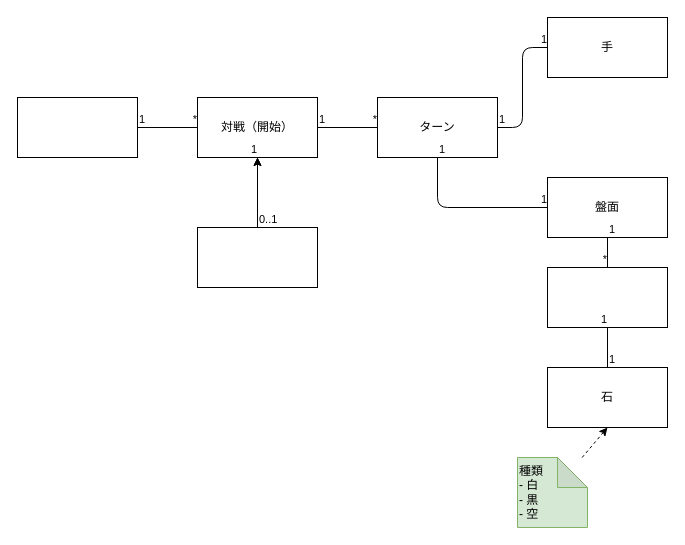
Image size: 685x545. Some labels were removed from this diagram. The shapes that lost their labels are listed below. From the top down, each one's box as (x1, y1, x2, y2) in pixels, then its label:
(16, 96, 138, 158): プレイヤー
(196, 226, 318, 288): 対戦結果
(546, 266, 668, 328): マス目
